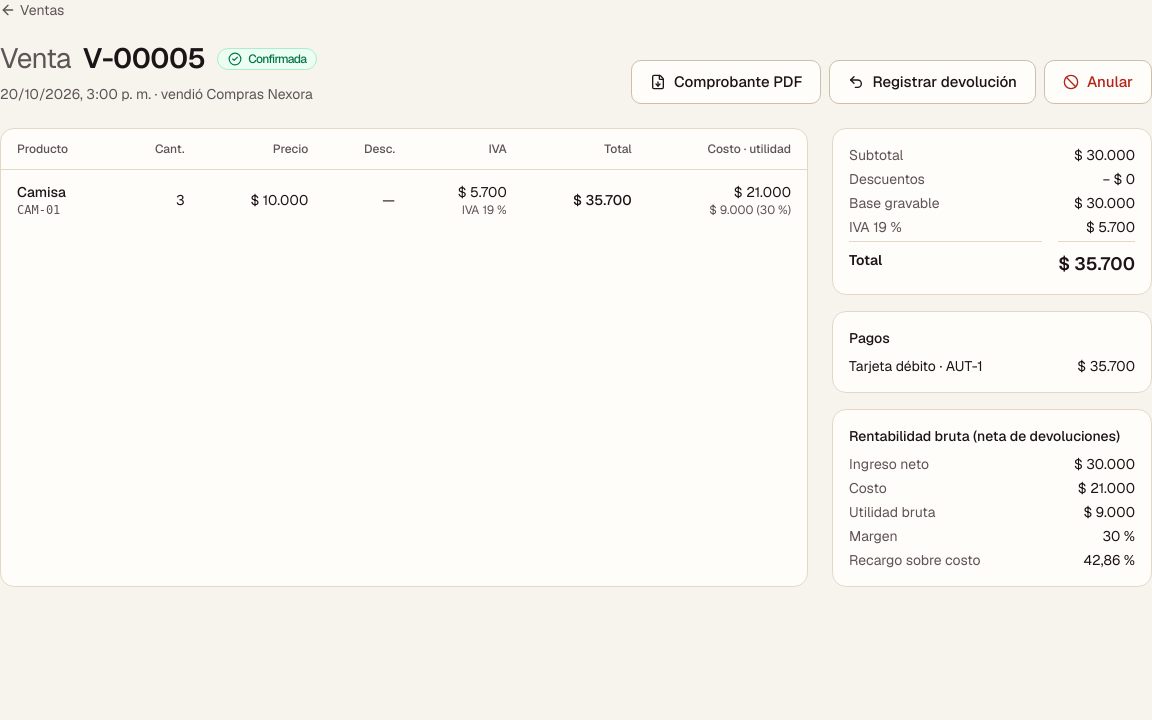
it: Historial y detalle de ventas › no permite devolver más de lo pendiente
Click the button "Registrar devolución": x=933, y=82 830,60 -> 1036,104
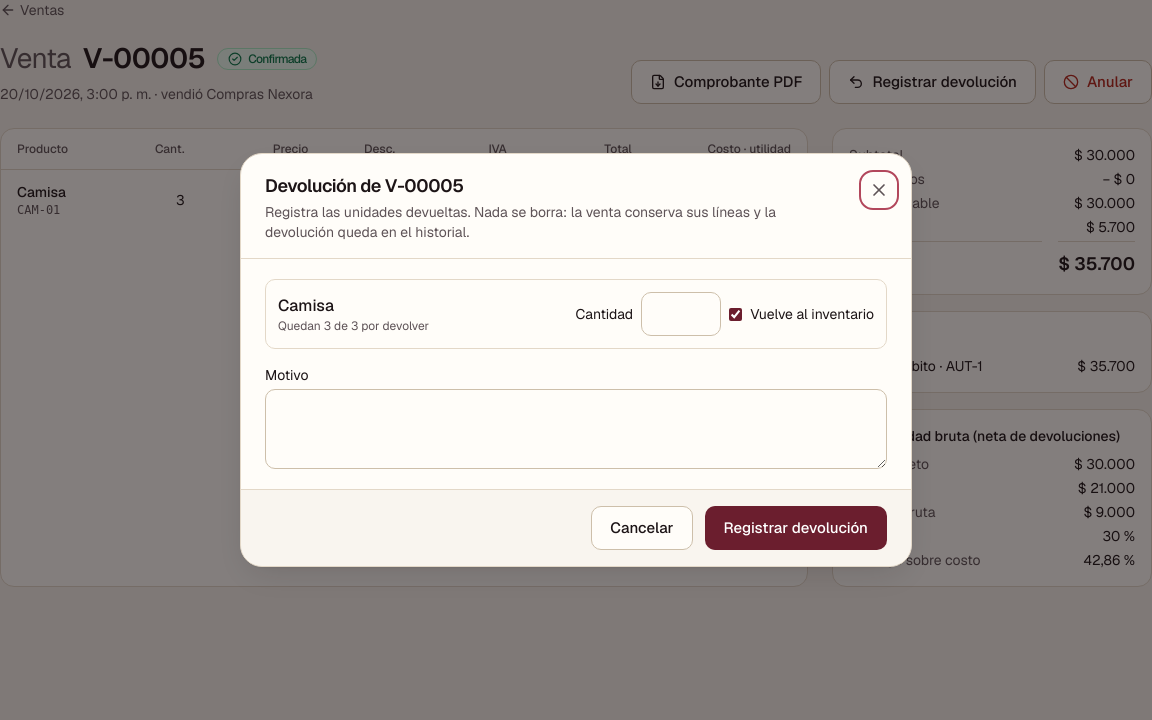
In the field named "Unidades a devolver de Camisa": x=681, y=314 641,292 -> 721,336, type "4"
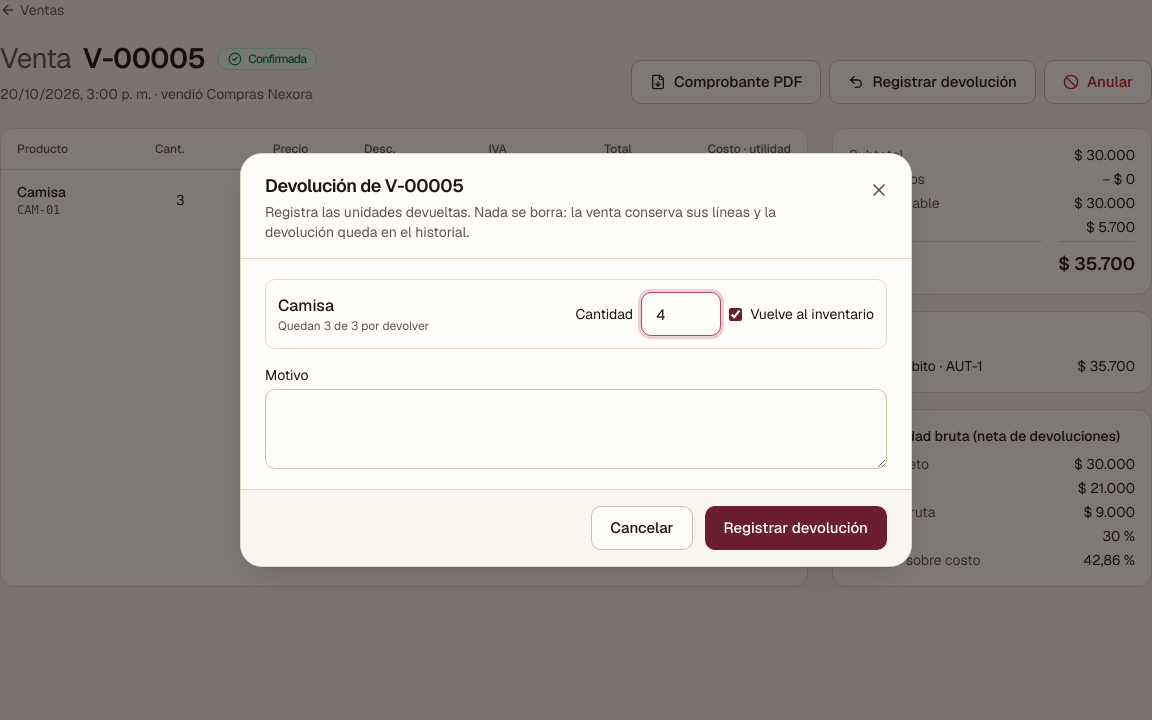
In the text box labelled "Motivo": x=576, y=429 265,389 -> 887,469, type "Demasiadas"
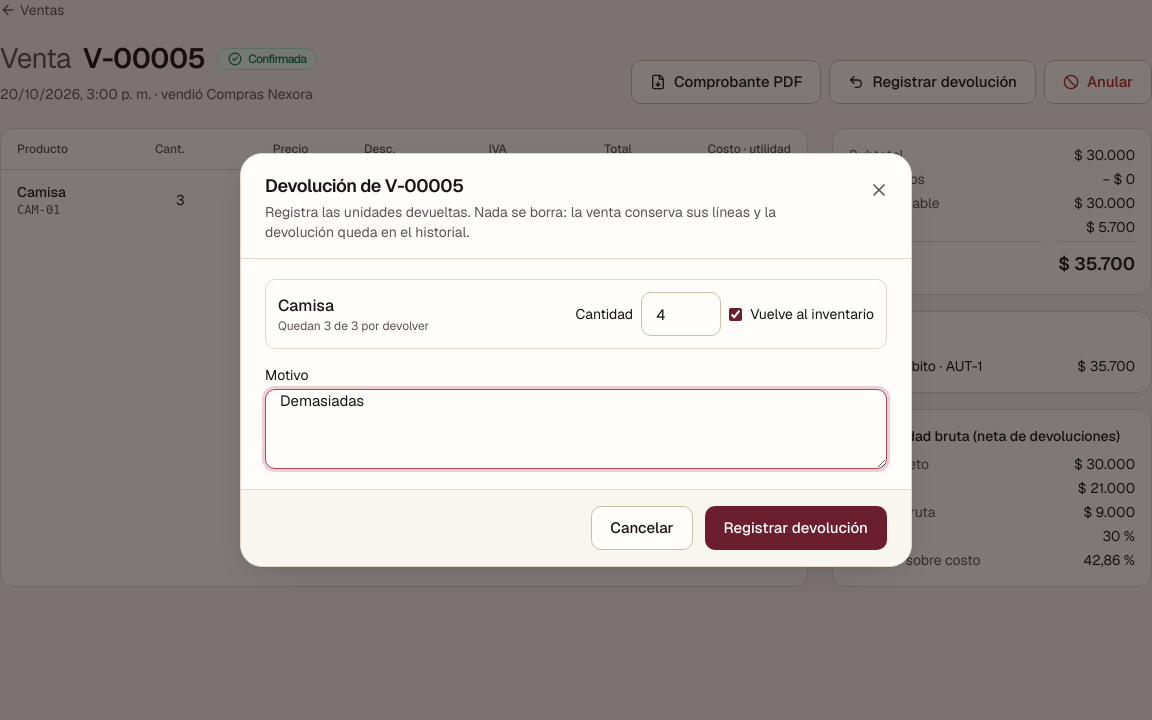
Click the button "Registrar devolución": x=796, y=528 704,506 -> 887,550
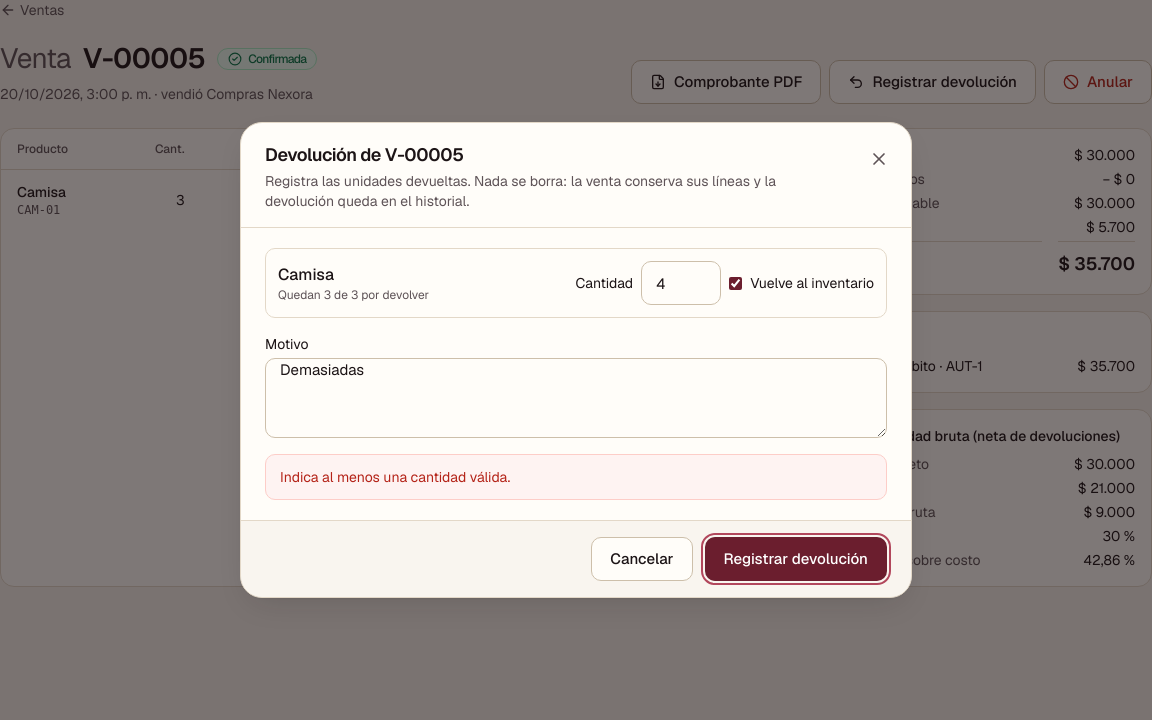
Check: the text "Indica al menos una cantidad válida." is shown, box 265,454 -> 887,500
